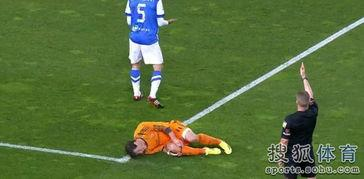down: (121, 117, 237, 163)
up: (275, 64, 324, 179), (122, 1, 172, 107)
